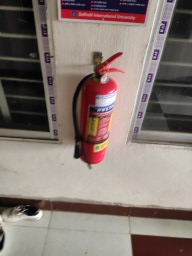fire_extinguisher: (38, 88, 127, 159), (153, 199, 192, 256)
